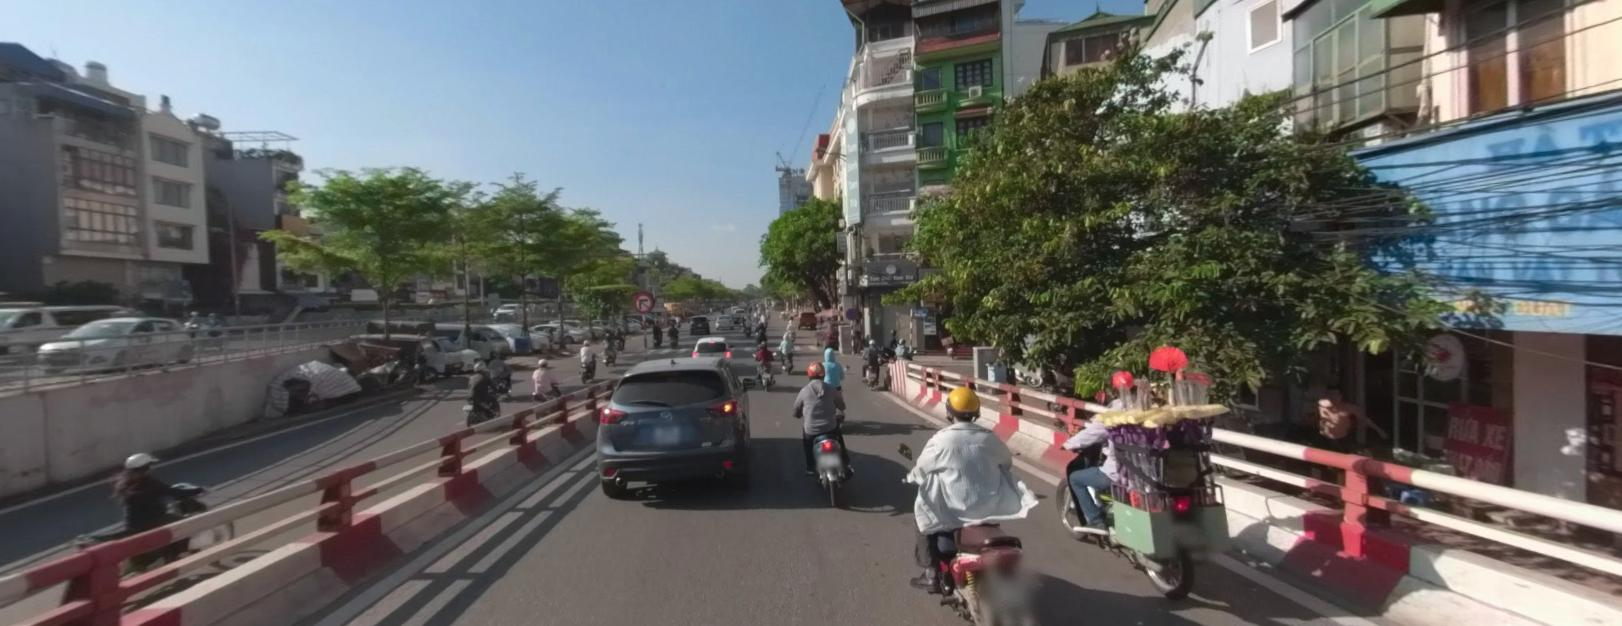Cam dung va do: (846, 306, 856, 317), (846, 306, 855, 317)
Cam re: (633, 290, 653, 311), (634, 292, 652, 311)
